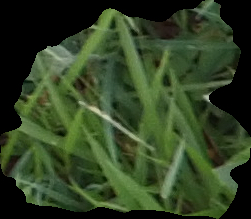grass: (1, 1, 250, 218)
